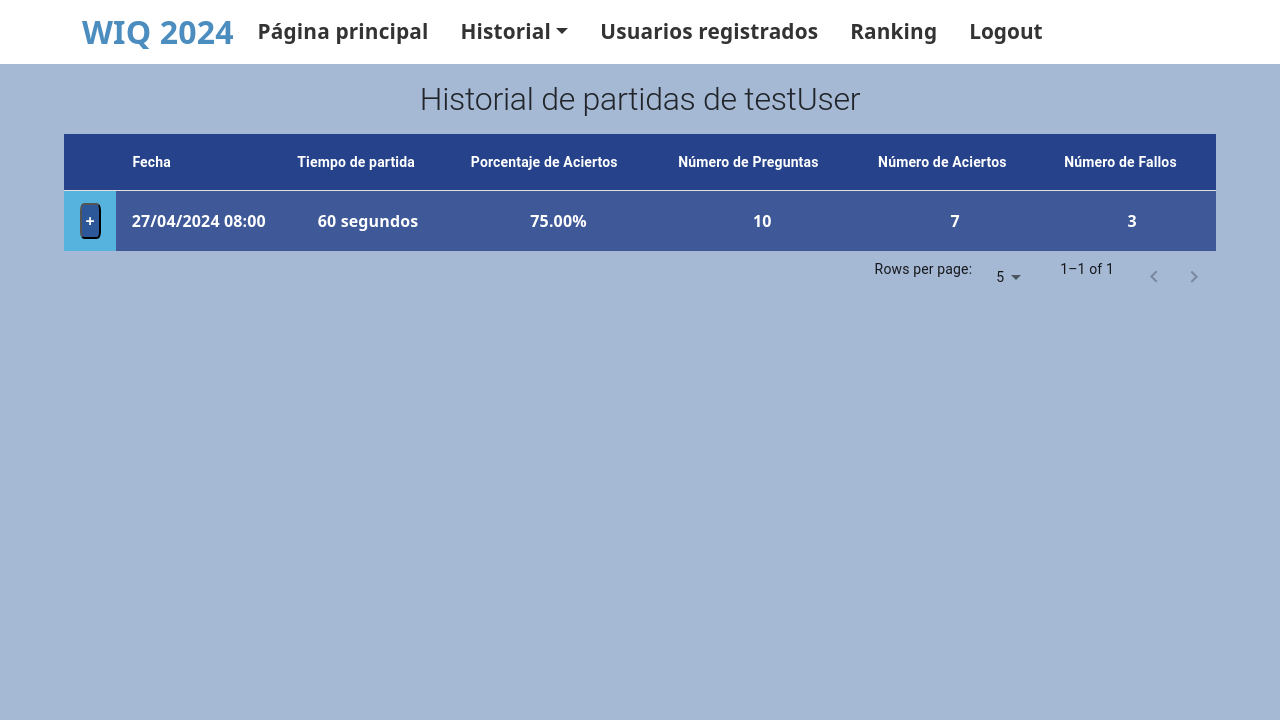
Test case: HistoricalUserData component › fetches game history, renders game data, expands game details, and renders questions
Check: the text "27/04/2024 08:00" is shown, box [116,191,281,251]
Check: the text "60 segundos" is shown, box [281,191,455,251]
# Simula hacer clic en el botón de expansión para mostrar las preguntas ocultas
Step 1. Click the button "+" → (90,221), box [80,203,101,239]
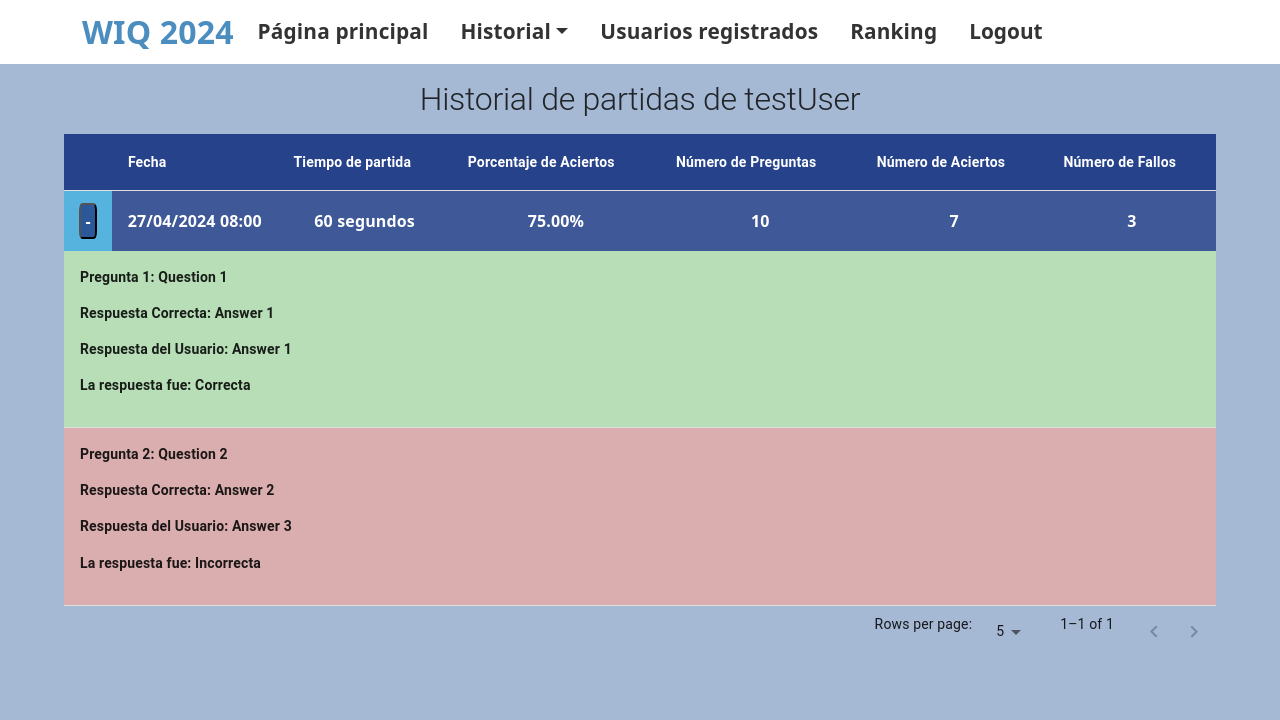
Check: the text "Pregunta 1:" is shown, box [80,269,155,285]
Check: the text "Respuesta Correcta: Answer 1" is shown, box [80,305,274,321]
Check: the text "Respuesta del Usuario: Answer 1" is shown, box [80,341,292,357]
